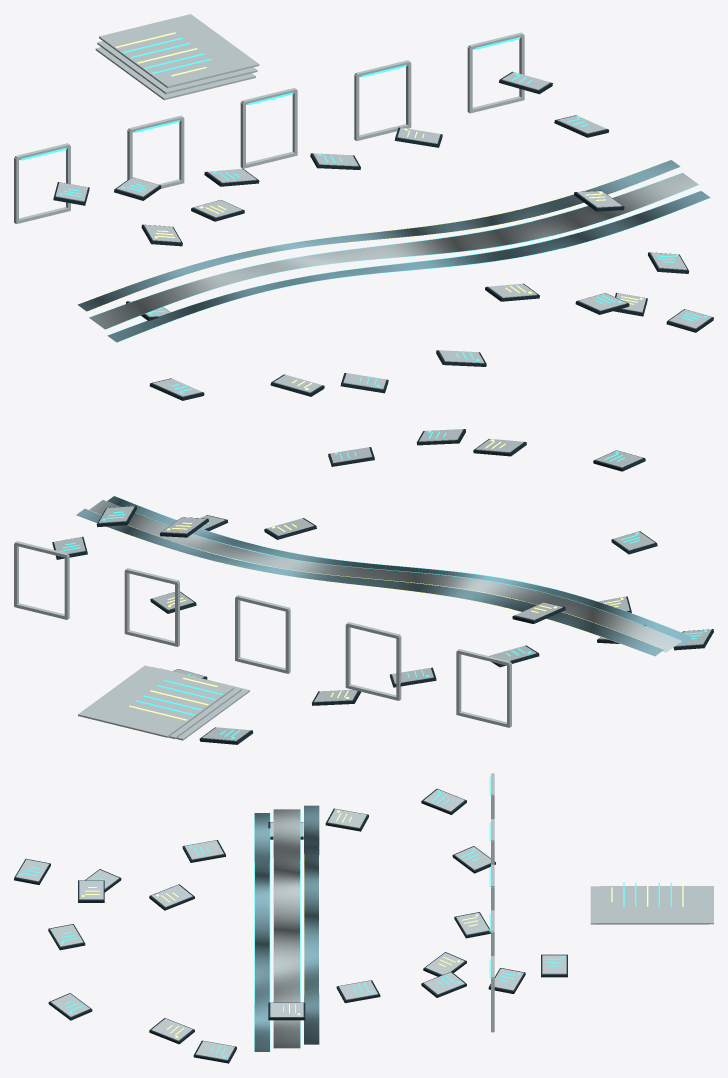
File: evidence-current.glb
3 views of the same model, one above another, from view 1: azimuth 30°, elevation 25°; view 2: azimuth 150°, elevation 25°; view 3: azimuth 270°, elevation 25° (orthographic). The views are drawn at different scales.
Visible parts, largest first — view 1: Current_1, Result page.002, Current_0, Current_2, Result page.001, Result page; view 2: Current_1, Result page.002, Current_2, Current_0, Result page, Result page.001, Current_edge_0_1, Current_edge_1_1; view 3: Current_1, Result page.002, Current_2, Current_0, Packet surface.019, Packet surface.011, Packet surface.009, Packet surface, Packet surface.001, Packet surface.008, Packet surface.002, Packet surface.018 (+9 smaller).
Boxes of the visible parts, x1,y1,x2,y2 form: Current_1: (89,173,698,329); Result page.002: (99,14,259,88); Current_0: (107,191,710,342); Current_2: (77,160,680,311); Result page.001: (97,41,257,94); Result page: (95,47,255,100); Current_1: (89,500,681,652); Result page.002: (78,665,234,737); Current_2: (76,508,663,656); Current_0: (107,496,692,643); Result page: (160,668,249,740); Result page.001: (152,667,241,738); Current_edge_0_1: (114,496,693,637); Current_edge_1_1: (104,500,681,640); Current_1: (273,809,300,1048); Result page.002: (600,886,713,924); Current_2: (304,805,319,1044); Current_0: (254,813,269,1051); Packet surface.019: (196,1041,234,1060); Packet surface.011: (184,840,223,859); Packet surface.009: (328,809,366,828); Packet surface: (270,1003,303,1017); Packet surface.001: (339,980,377,999); Packet surface.008: (423,789,464,811); Packet surface.002: (423,972,464,994); Packet surface.018: (151,1018,192,1040).
Bounding box in the file's own units: 11 × 2.03 × 13.61.
